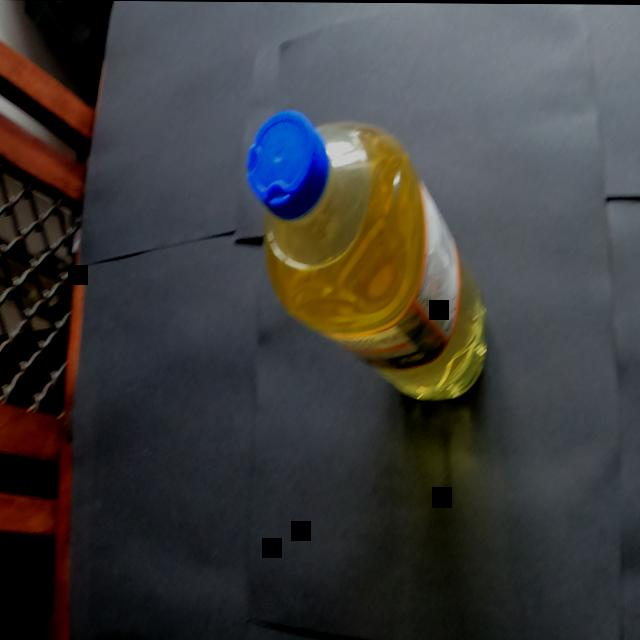Vegetableoil: (240, 86, 498, 413)
